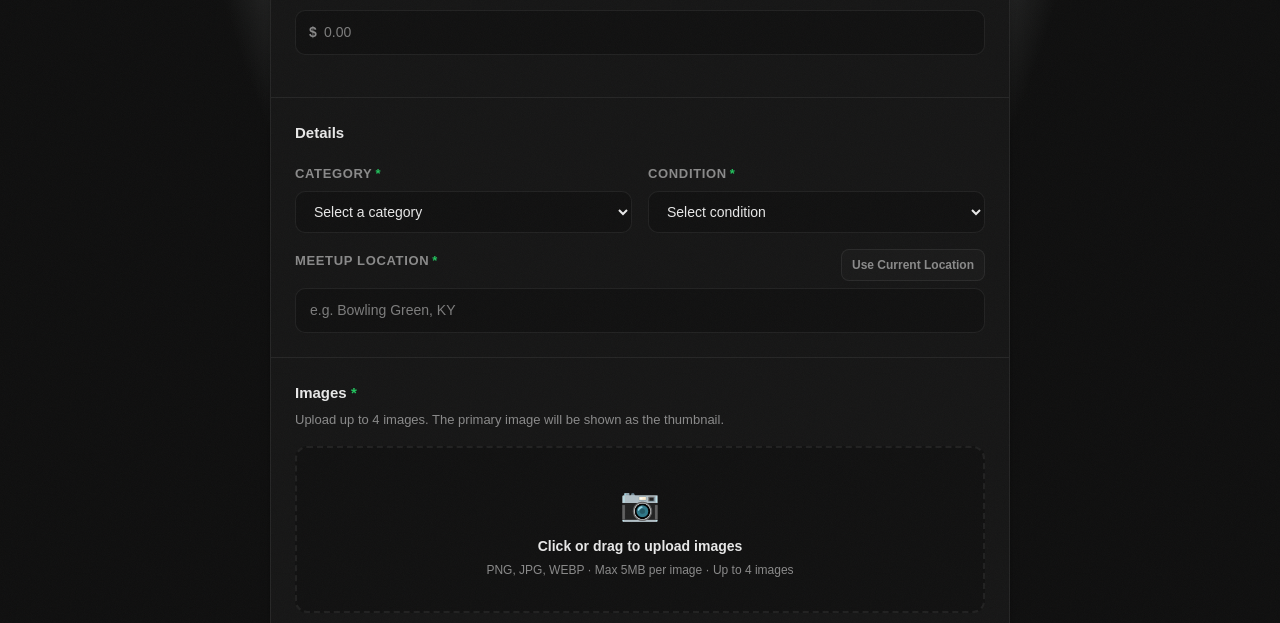
Test: CreateEditListingPage › shows location error when permission is denied
(page scrolled)
Click the button "Use Current Location" at (913, 265), box top-left (841, 249), bottom-right (985, 281)
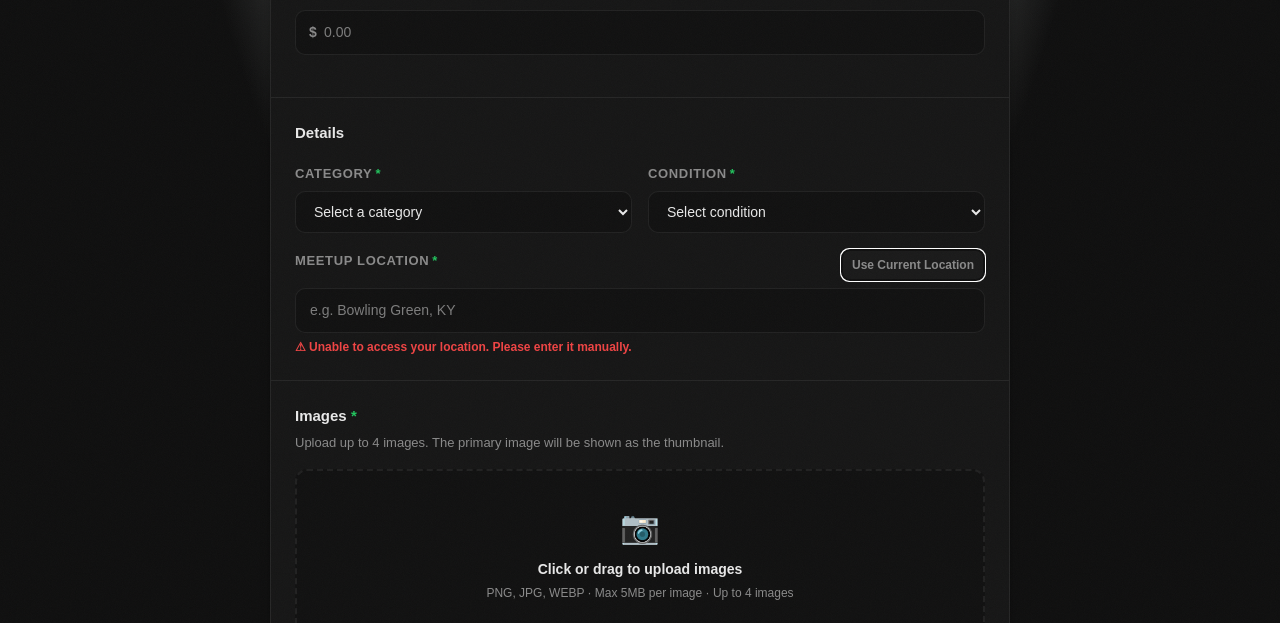
Check: the text "⚠ Unable to access your location. Please enter it manually." is shown, box top-left (295, 340), bottom-right (632, 354)
